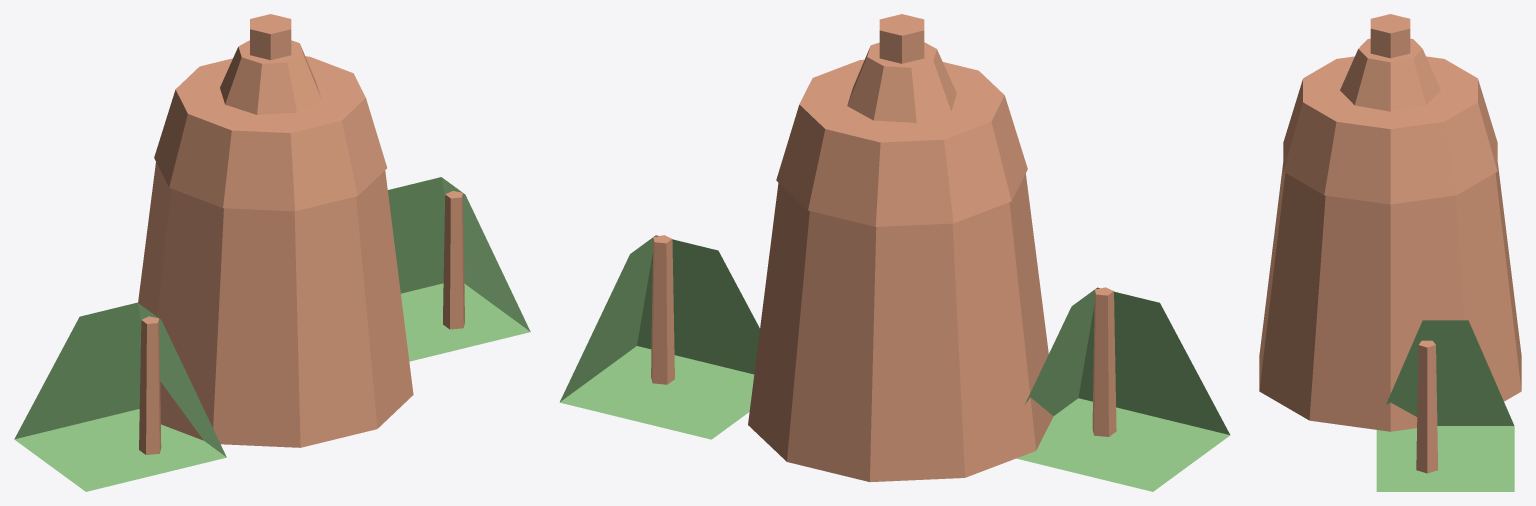
Rendered from allotments-and-community-garden-rhubarb-forcer-ca6b0622__35142.glb.
The picture shows the model from 3 angles, left to right: view 1: azimuth 30°, elevation 25°; view 2: azimuth 150°, elevation 25°; view 3: azimuth 270°, elevation 25°; orthographic projection. The views are drawn at different scales.
Visible parts, largest first — view 1: rhubarb-forcer-terracotta, rhubarb-forcer-leaf; view 2: rhubarb-forcer-terracotta, rhubarb-forcer-leaf; view 3: rhubarb-forcer-terracotta, rhubarb-forcer-leaf.
Part boxes in pixels (x1,y1,x2,y2): rhubarb-forcer-terracotta: (138,14,464,454); rhubarb-forcer-leaf: (14,177,530,491); rhubarb-forcer-terracotta: (651,14,1116,482); rhubarb-forcer-leaf: (559,235,1230,491); rhubarb-forcer-terracotta: (1259,14,1521,473); rhubarb-forcer-leaf: (1376,320,1514,491).
Bounding box in the file's own units: 1.2 × 0.84 × 0.5706.
